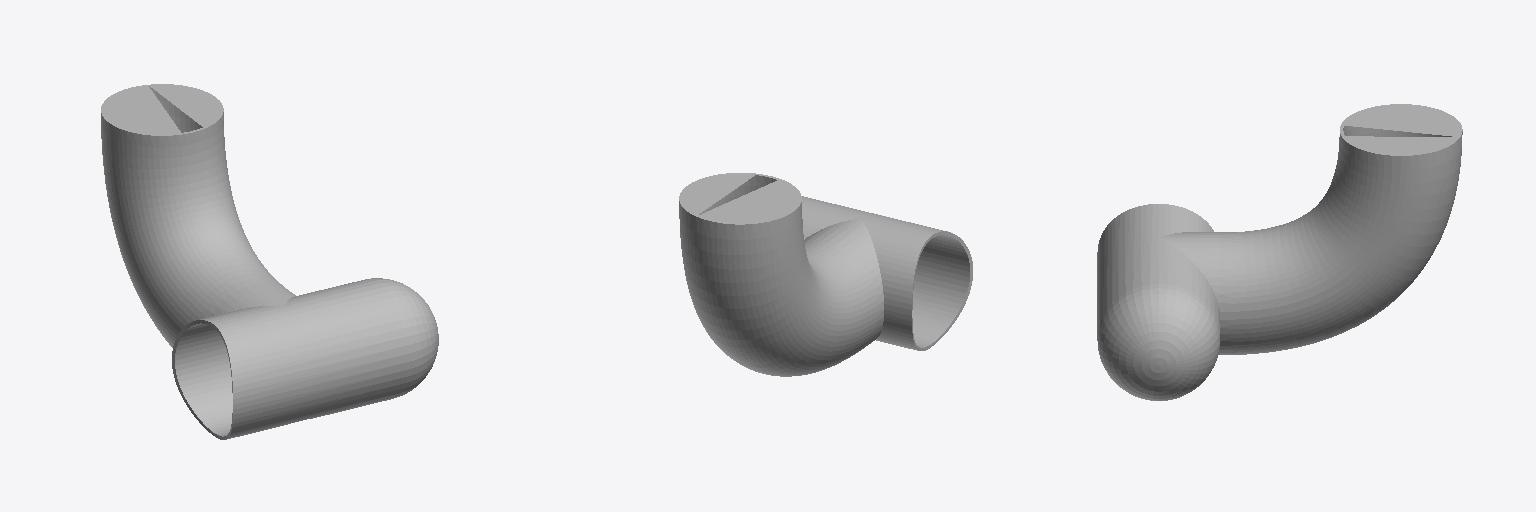
File: SupportPipeFL.obj
3 renders of one model, left to right at view 1: azimuth 30°, elevation 25°; view 2: azimuth 150°, elevation 25°; view 3: azimuth 270°, elevation 25°, orthographic.
Parts seen in each view (by area): view 1: SupportPipeFL_Support_Pipe_v16; view 2: SupportPipeFL_Support_Pipe_v16; view 3: SupportPipeFL_Support_Pipe_v16.
Part boxes in pixels (left/top/right/bottom): SupportPipeFL_Support_Pipe_v16: left=101, top=84, right=438, bottom=439; SupportPipeFL_Support_Pipe_v16: left=679, top=173, right=972, bottom=376; SupportPipeFL_Support_Pipe_v16: left=1097, top=104, right=1462, bottom=400.
Bounding box in the file's own units: 0.0728 × 0.067 × 0.101.